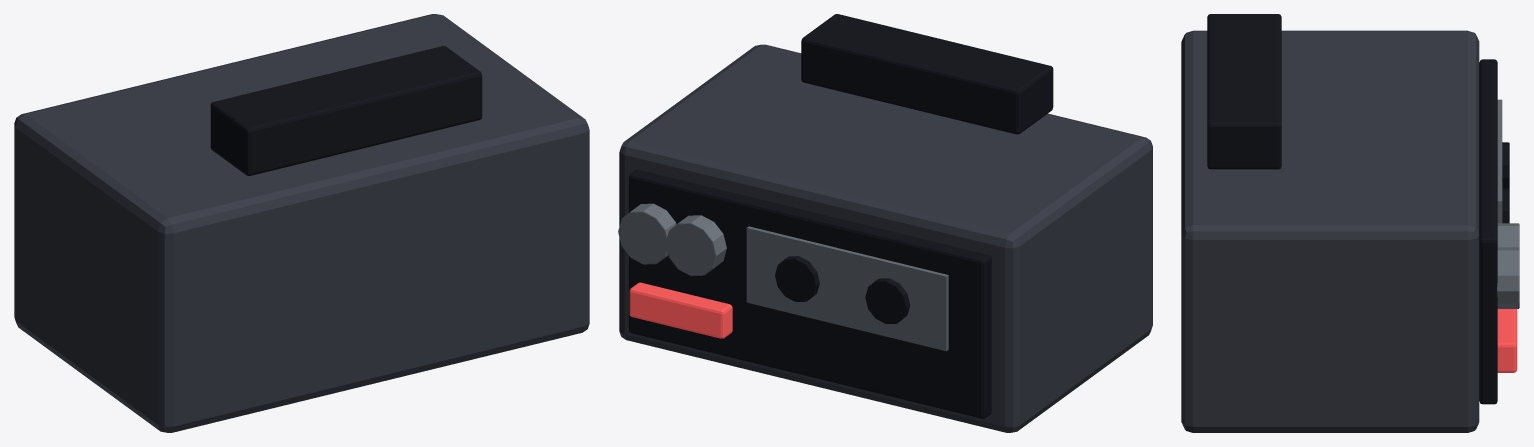
File: cassette_deck_field_recorder.glb
The picture shows the model from 3 angles, left to right: view 1: azimuth 30°, elevation 25°; view 2: azimuth 150°, elevation 25°; view 3: azimuth 270°, elevation 25°; orthographic projection. The views are drawn at different scales.
Parts seen in each view (by area): view 1: cassette_deck_field_recorder; view 2: cassette_deck_field_recorder; view 3: cassette_deck_field_recorder.
Boxes of the visible parts, x1,y1,x2,y2 form: cassette_deck_field_recorder: (14,14,589,432); cassette_deck_field_recorder: (618,14,1152,432); cassette_deck_field_recorder: (1181,14,1519,432).
Bounding box in the file's own units: 0.42 × 0.2575 × 0.295.
